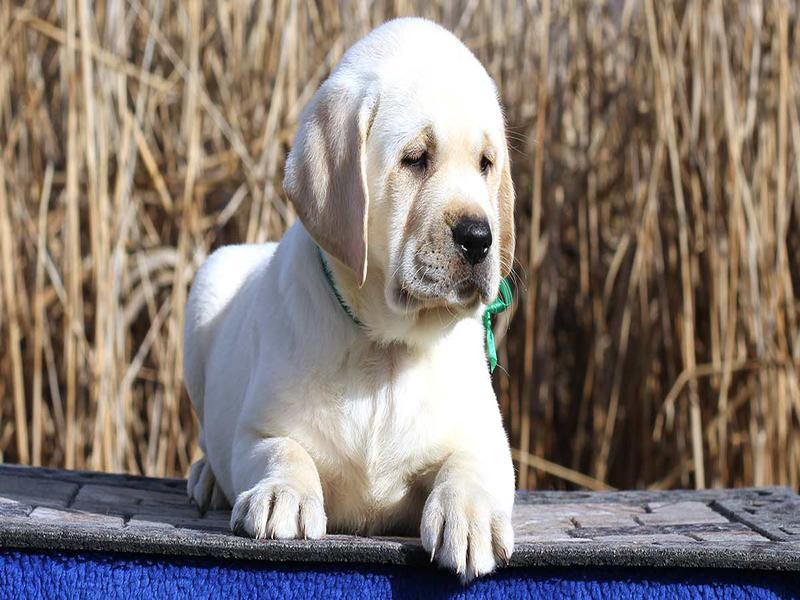dog_down: (173, 13, 522, 589)
